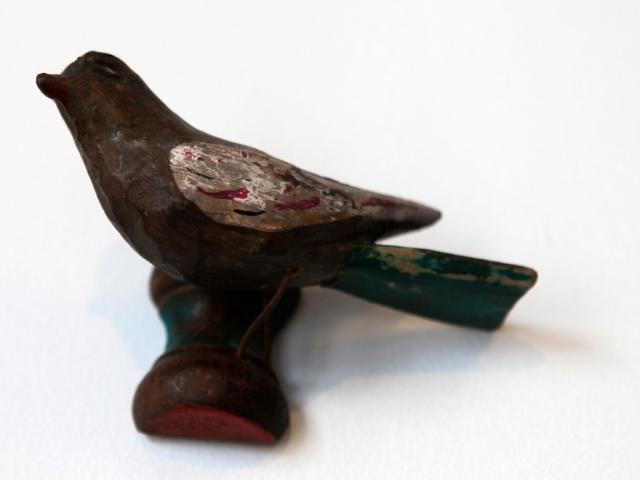Bird: (35, 48, 438, 364)
